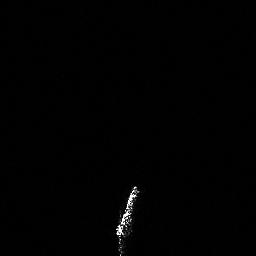ship: (111, 183, 141, 256)
